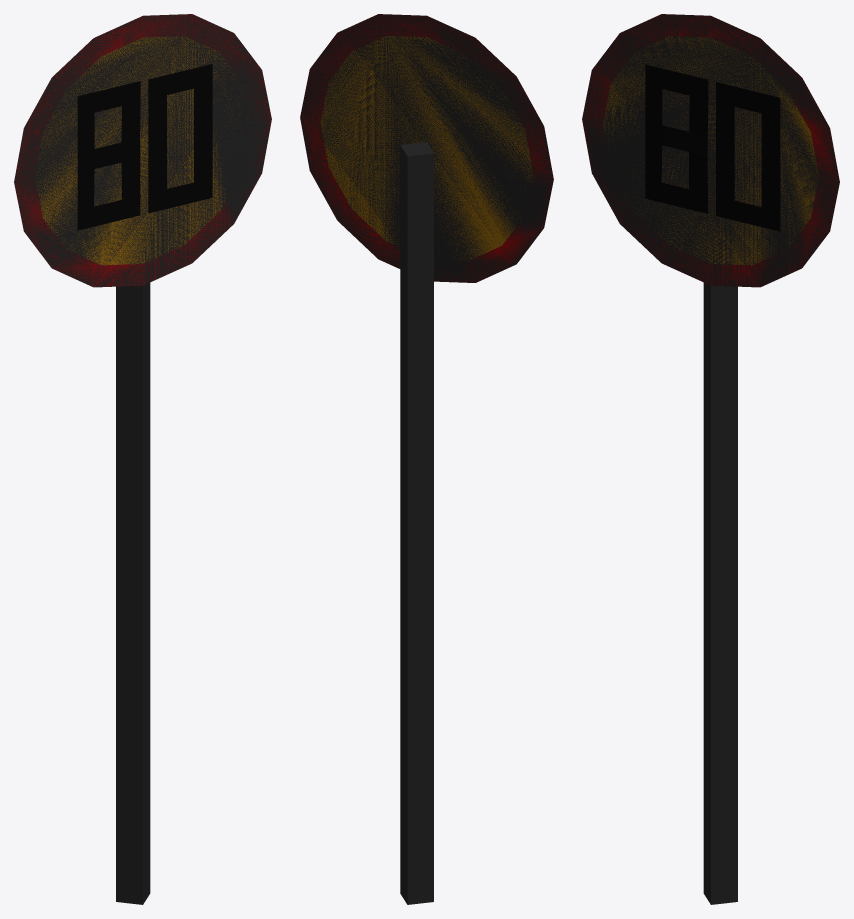
File: 80kmh.obj
3 renders of one model, left to right at view 1: azimuth 30°, elevation 25°; view 2: azimuth 150°, elevation 25°; view 3: azimuth 330°, elevation 25°, orthographic.
Parts seen in each view (by area): view 1: Cylinder.001; view 2: Cylinder.001; view 3: Cylinder.001.
Boxes of the visible parts, <box> form: Cylinder.001: <box>14,14,271,904</box>; Cylinder.001: <box>300,14,553,904</box>; Cylinder.001: <box>582,14,839,904</box>.
Size of the model in its own units: 0.8957 by 2.95 by 0.1207.
